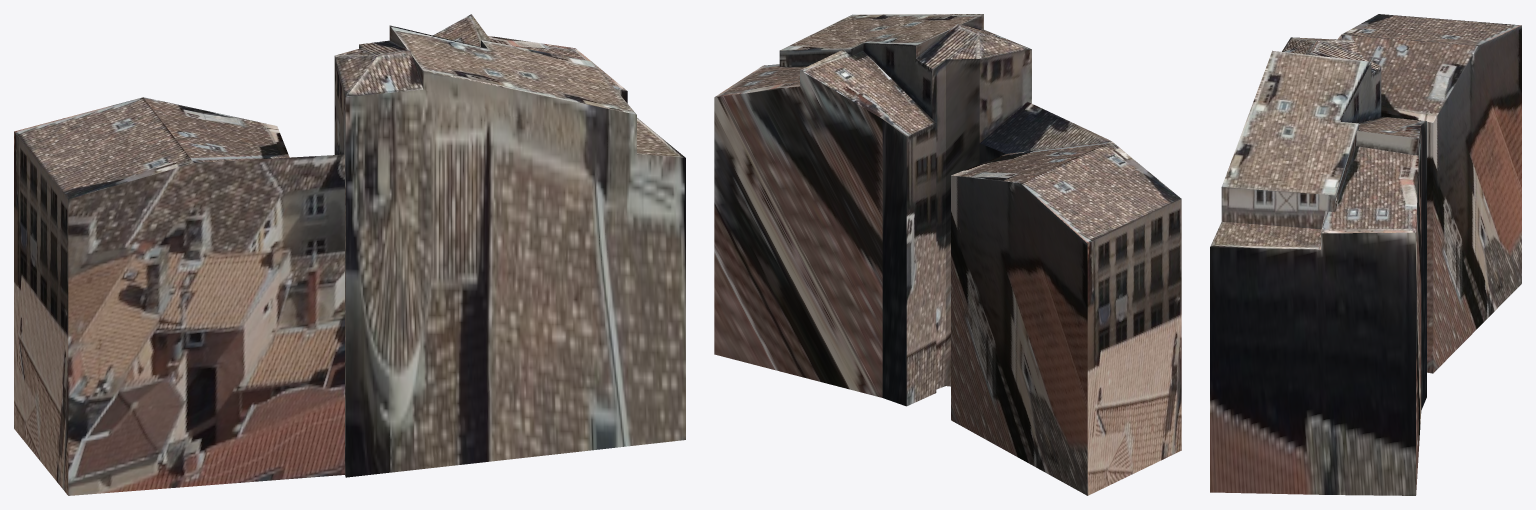
The picture shows the model from 3 angles, left to right: view 1: azimuth 30°, elevation 25°; view 2: azimuth 150°, elevation 25°; view 3: azimuth 270°, elevation 25°; orthographic projection. The views are drawn at different scales.
Parts seen in each view (by area): view 1: Z_UP; view 2: Z_UP; view 3: Z_UP.
Boxes of the visible parts, left/top/right/bottom form: Z_UP: left=14, top=14, right=685, bottom=495; Z_UP: left=714, top=14, right=1181, bottom=495; Z_UP: left=1210, top=14, right=1521, bottom=495.
Bounding box in the file's own units: 35.48 × 25.64 × 20.85.
Materials: 2 (1 with a texture image).
